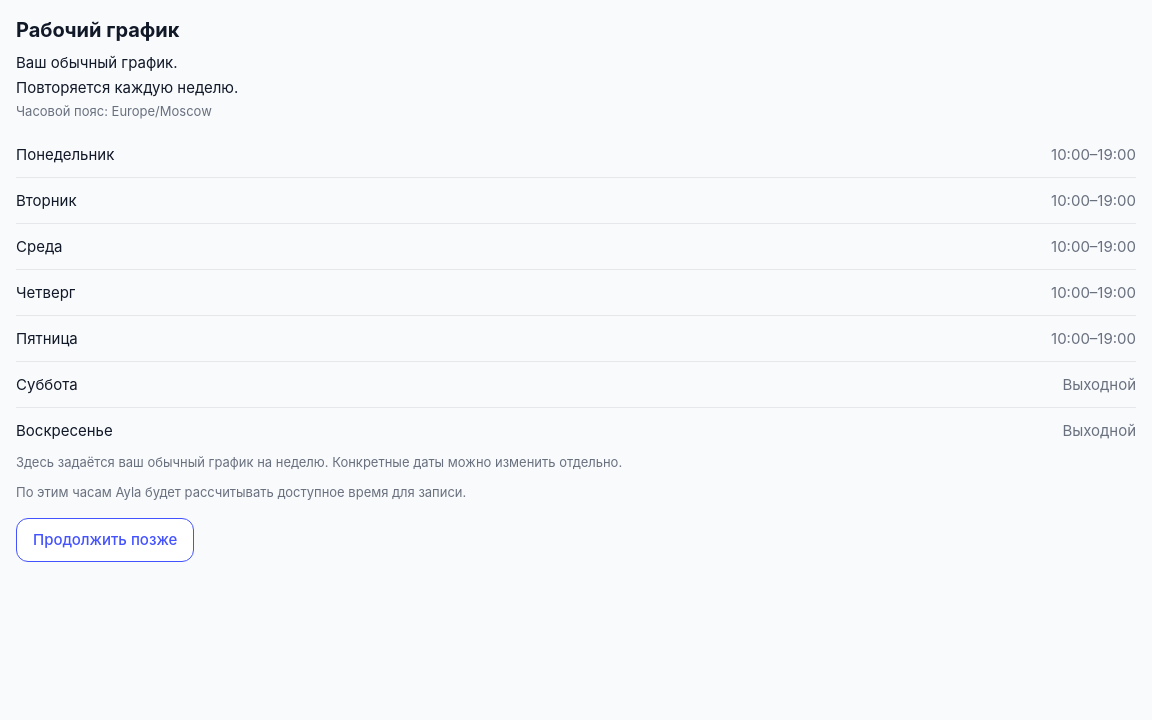
правка одного дня › «Не работаю» шлёт ровно 7 дней и трогает только этот день
Expected: the heading "Рабочий график" is shown, [16,18,180,42]
Step 1. Click the button "Среда 10:00–19:00" → (39, 247), box [16,224,1136,269]
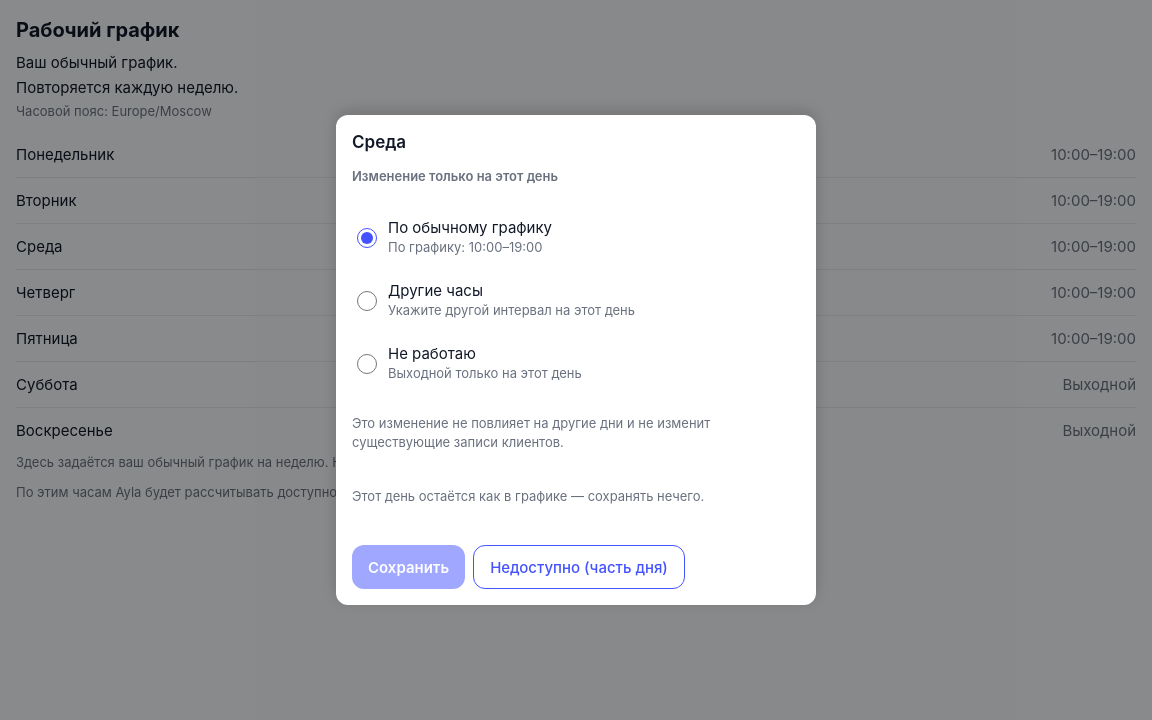
Step 2. Click the radio button labelled "Не работаю Выходной только на этот день" → (367, 364), box [357,354,377,374]
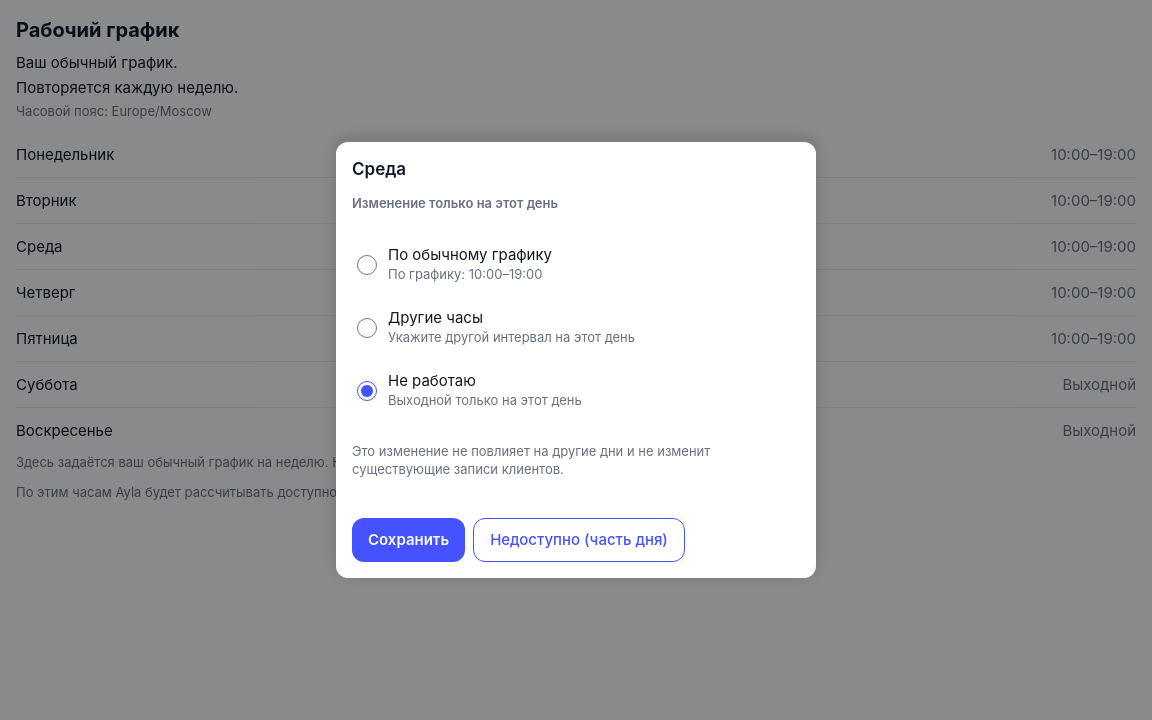
Step 3. Click the button "Сохранить" → (409, 540), box [352,518,465,562]
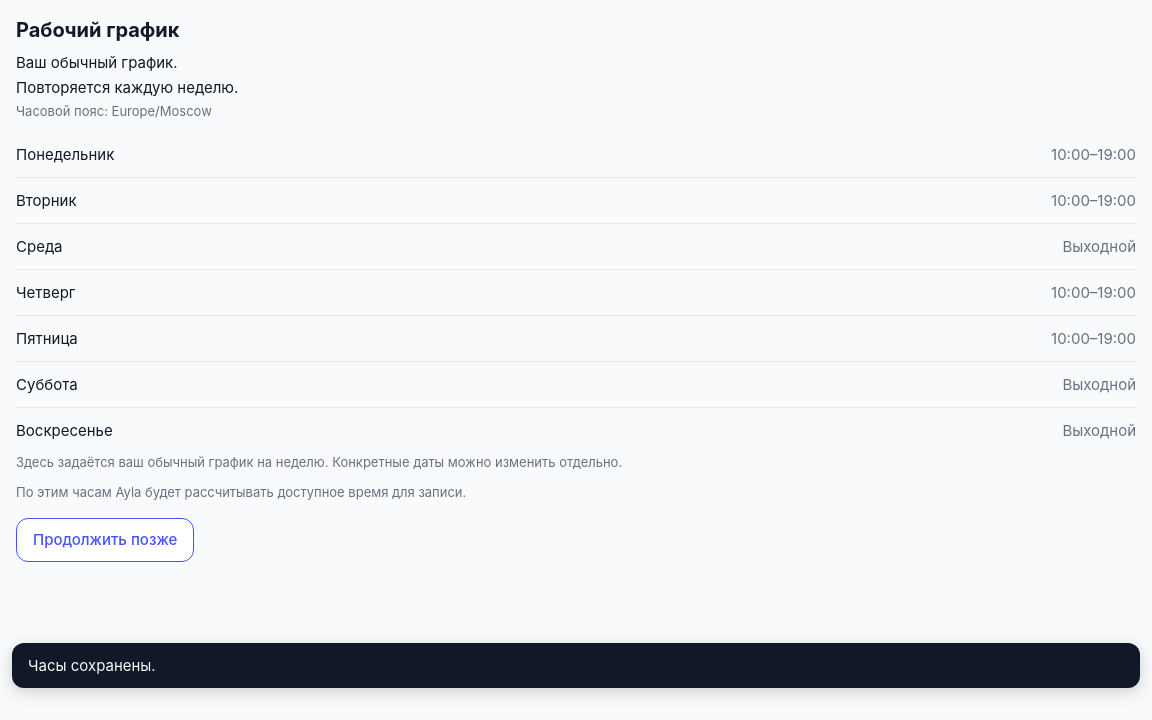
Now the text "Часы сохранены." is shown, box [28,656,156,675]
